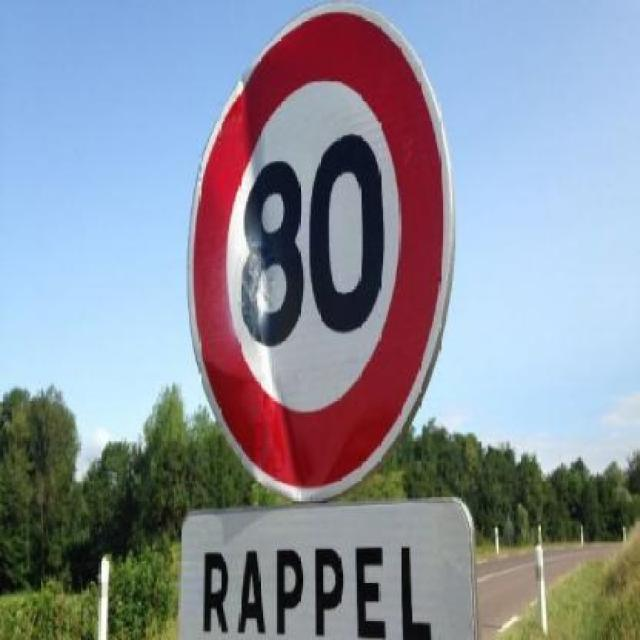forb_speed_over_80: (193, 7, 433, 487)
